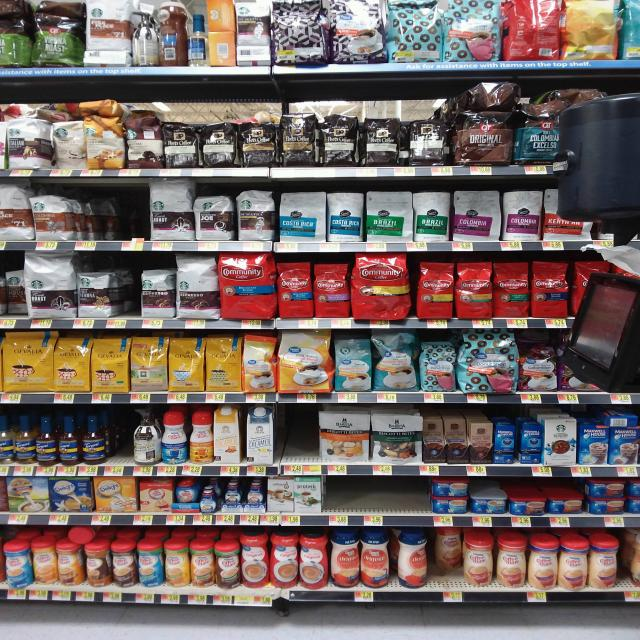unorganised: (49, 123, 87, 171), (433, 528, 463, 570), (1, 270, 28, 315), (78, 100, 135, 121), (70, 527, 94, 546)
